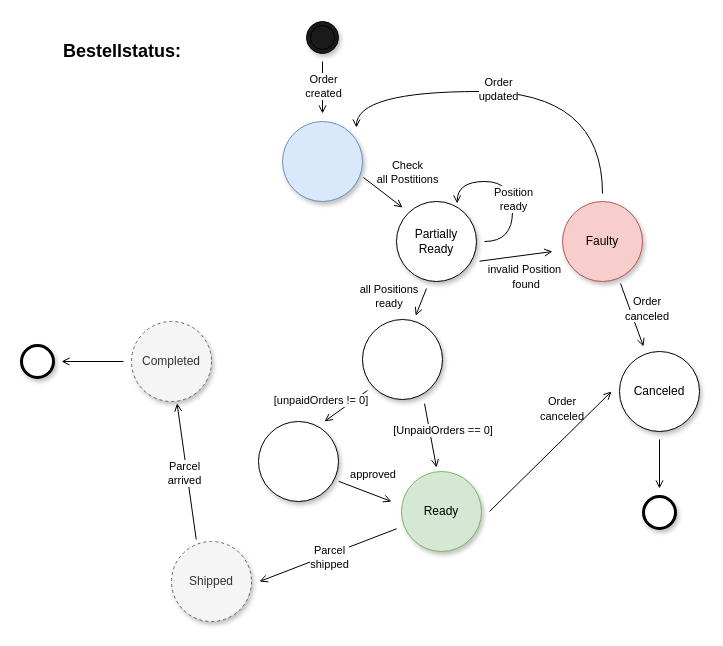
Some shapes in this 723 by 646 pixel diagram are drawn without their labels. The centre of each missing label's shape, as x and y in pixels:
"In Payment Check" belongs at [403,360].
"Needs Approval" belongs at [299,462].
"Received" belongs at [323,162].
